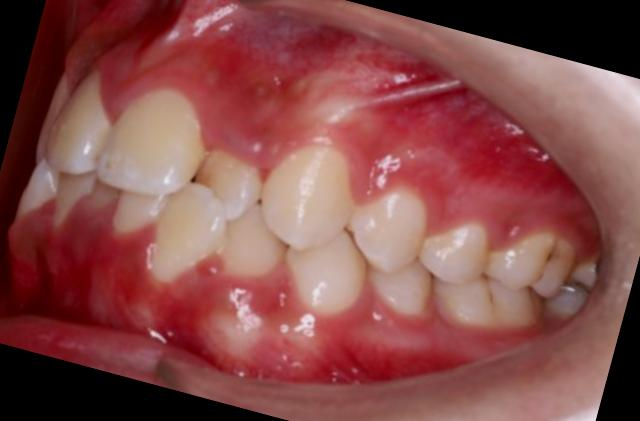canine class III 1/4: (205, 112, 402, 340)
molar class III 1/2: (418, 196, 583, 362)
